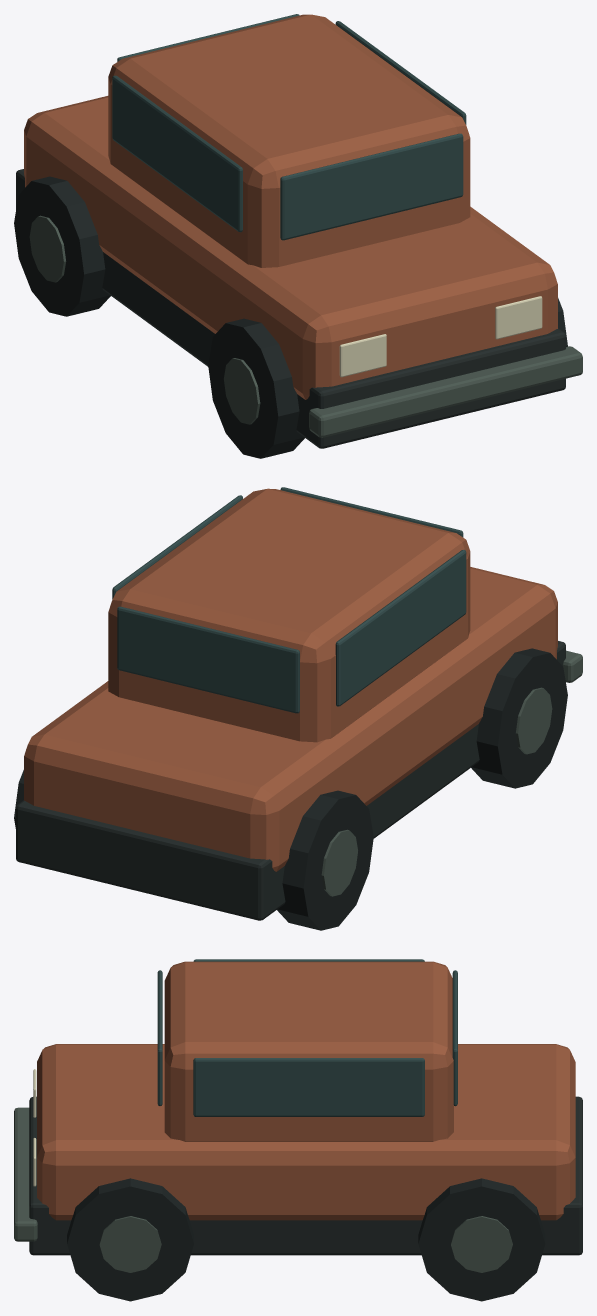
Rendered from wreck.glb.
3 renders of one model, top to bottom at view 1: azimuth 30°, elevation 25°; view 2: azimuth 150°, elevation 25°; view 3: azimuth 270°, elevation 25°, orthographic. The views are drawn at different scales.
Parts seen in each view (by area): view 1: rust_body, cabin, chassis, windshield, side_window, tire, tire.001, bumper, rim, rim.001, headlight.001, headlight (+1 smaller); view 2: rust_body, cabin, chassis, windshield.001, side_window, tire.001, tire, rim.001, rim, side_window.001, windshield; view 3: rust_body, cabin, side_window.001, chassis, tire.003, tire.002, rim.002, rim.003, bumper, windshield, windshield.001, side_window.
Part boxes in pixels (x1,y1,x2,y2): rust_body: (24, 96, 557, 399); cabin: (108, 14, 470, 267); chassis: (16, 169, 565, 448); windshield: (280, 133, 463, 240); side_window: (112, 75, 242, 232); tire: (208, 318, 304, 458); tire.001: (14, 176, 110, 316); bumper: (309, 346, 582, 437); rim: (224, 358, 260, 424); rim.001: (29, 215, 66, 282); headlight.001: (495, 296, 542, 339); headlight: (339, 334, 386, 377); rust_body: (24, 567, 557, 871); cabin: (108, 488, 470, 742); chassis: (16, 641, 565, 920); windshield.001: (117, 606, 299, 713); side_window: (335, 549, 466, 706); tire.001: (277, 790, 373, 930); tire: (471, 648, 567, 788); rim.001: (321, 829, 357, 896); rim: (515, 687, 552, 754); side_window.001: (112, 495, 242, 599); windshield: (280, 487, 463, 537); rust_body: (37, 1044, 575, 1220); cabin: (164, 961, 453, 1141); side_window.001: (193, 1058, 424, 1116); chassis: (29, 1096, 582, 1255); tire.003: (418, 1178, 545, 1301); tire.002: (67, 1178, 193, 1301); rim.002: (99, 1216, 161, 1272); rim.003: (451, 1216, 512, 1272); bumper: (14, 1107, 37, 1241); windshield: (157, 970, 162, 1105); windshield.001: (452, 970, 457, 1106); side_window: (193, 959, 424, 961).
Size of the model in its own units: 2.08 by 1.76 by 3.85.
